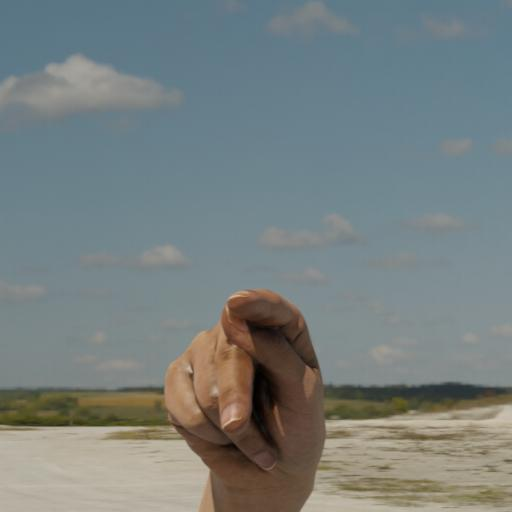P: (153, 275, 345, 502)
